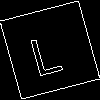L: (25, 25, 65, 78)
